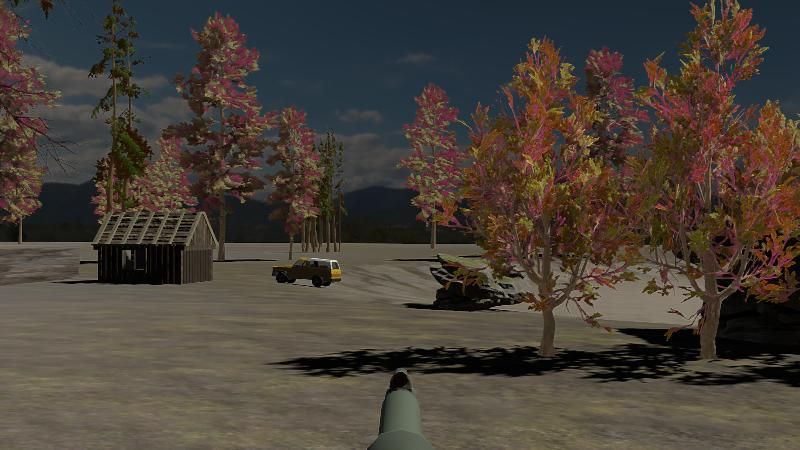House: (91, 205, 218, 285)
car: (270, 255, 342, 288)
